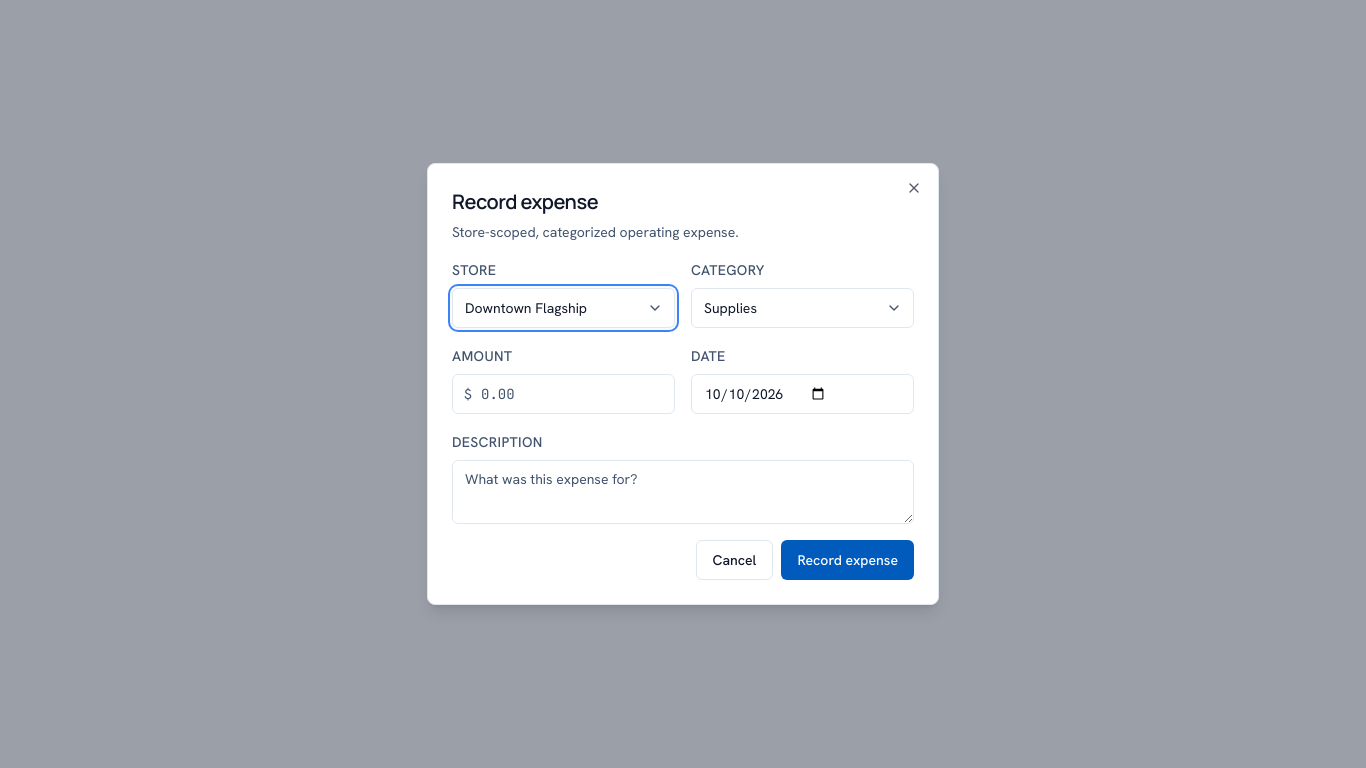
ExpenseFormDialog › validates a positive amount before saving
Click the button "Record expense": (848, 560) [781,540,914,580]
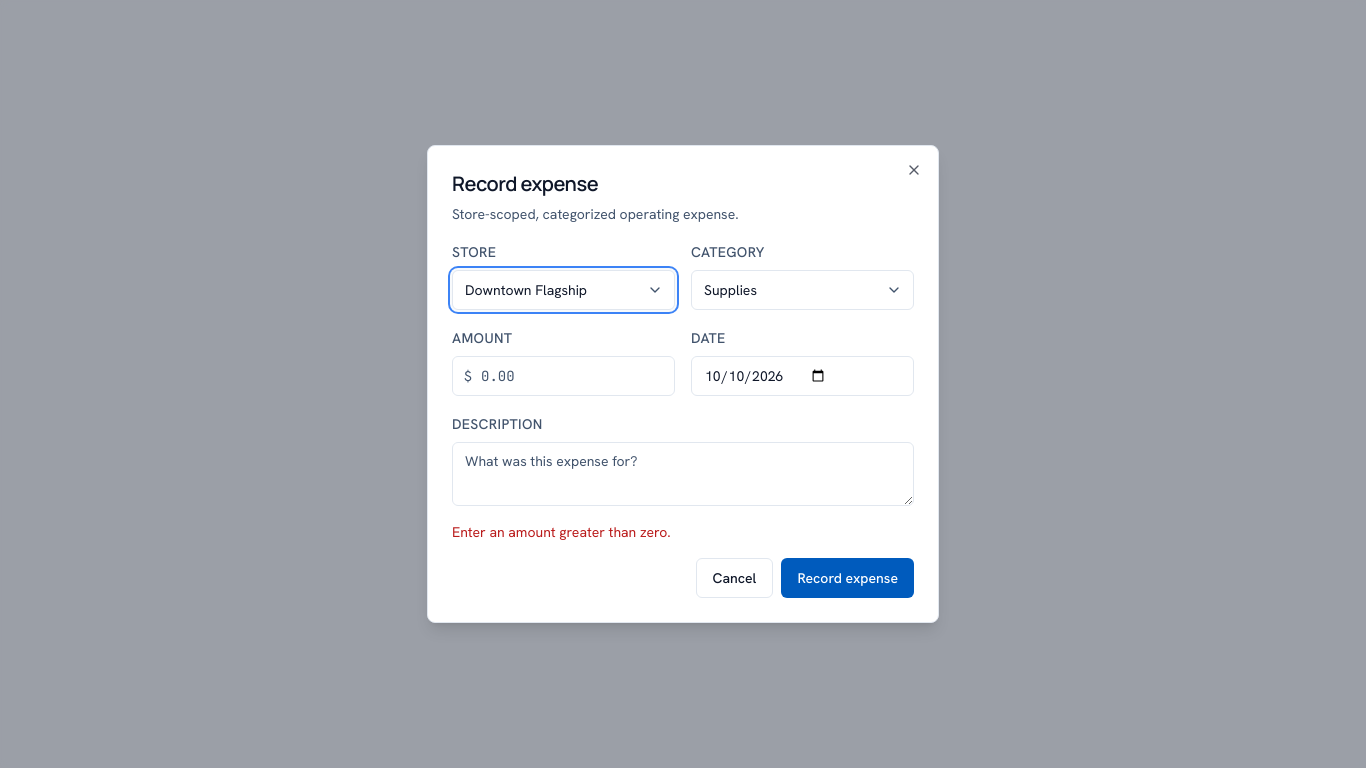
Expected: the text "Enter an amount greater than zero." is shown, [452,523,671,541]
